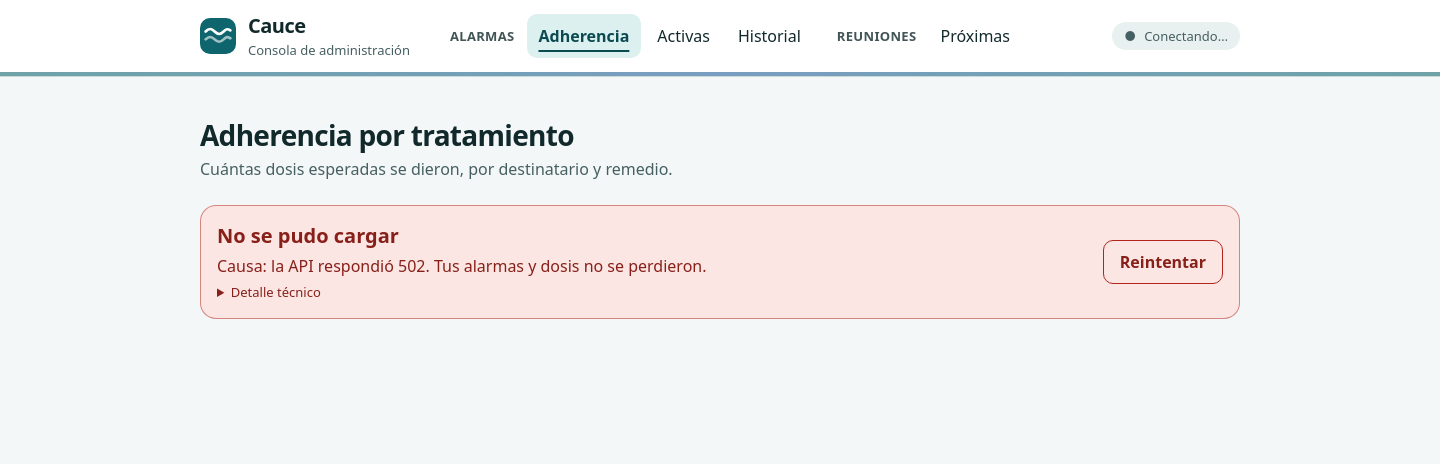
Test case: AdherenciaView (P2) › muestra el status HTTP y reintenta
This screenshot has width=1440, height=464.
Click the button "Reintentar".
click(1163, 262)  # box 1103,240 -> 1223,284
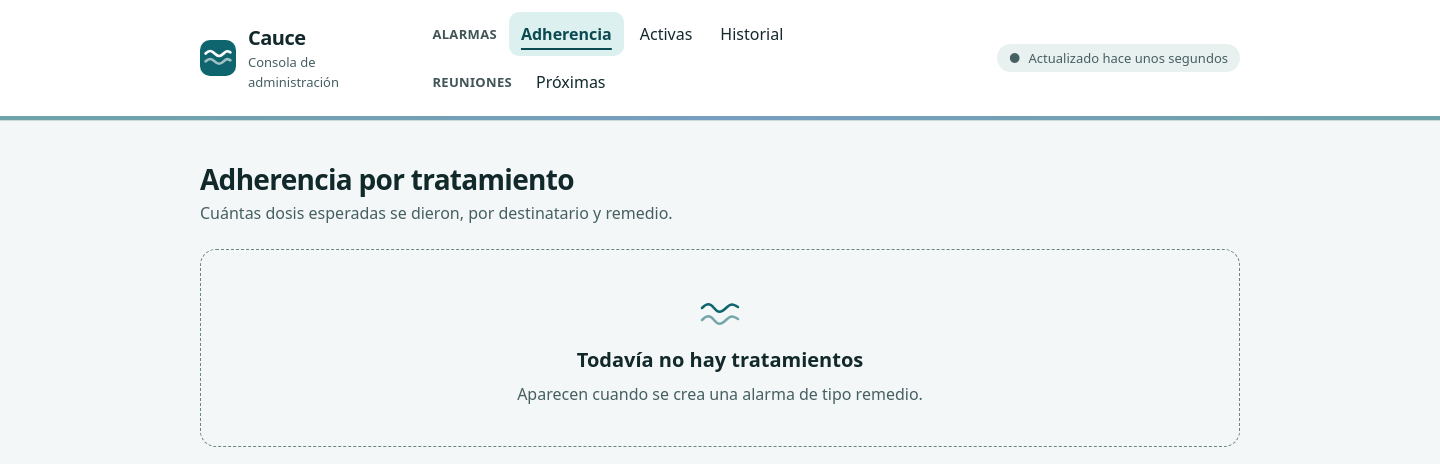
Result: the text "Todavía no hay tratamientos" is shown at 577,346 -> 863,374
